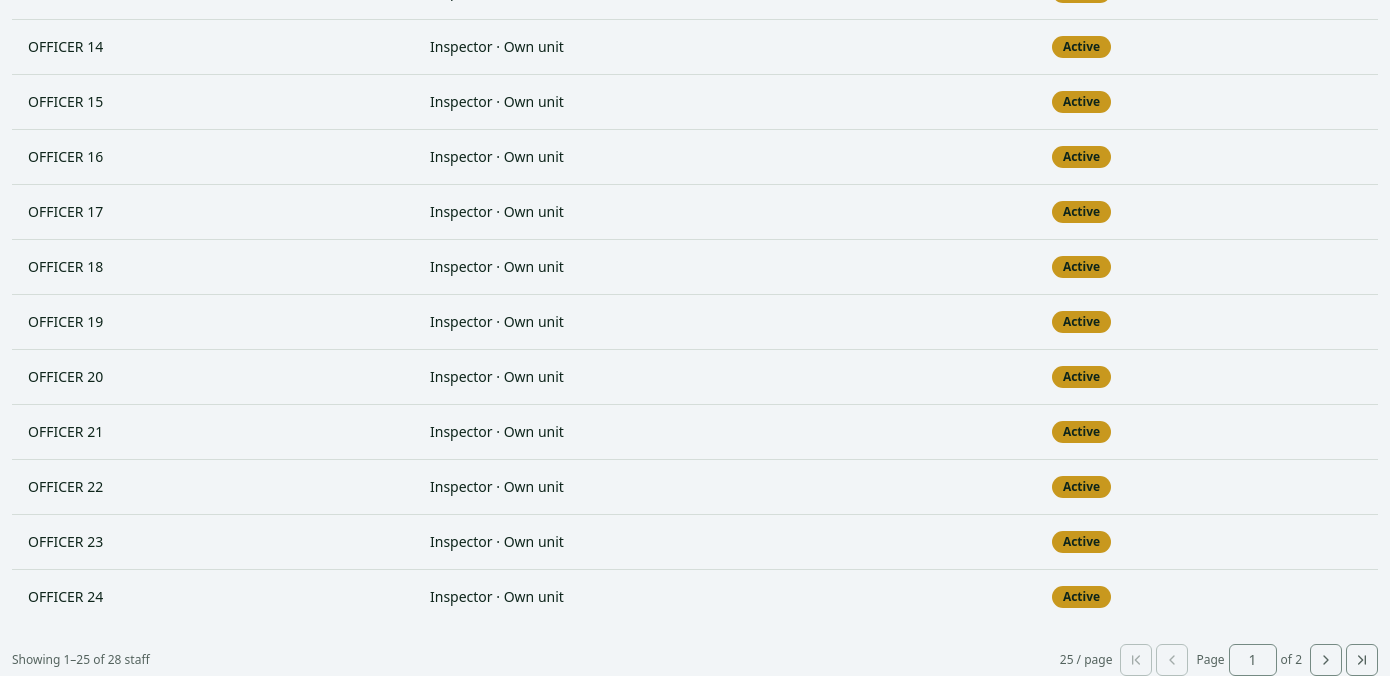
command workforce access and records › keeps 25 records per page and reads back the next page
(page scrolled)
Check: the text "OFFICER 25" is not shown
Click the button named "Next page" at (1326, 660), box [1310,644,1342,675]
(page scrolled)
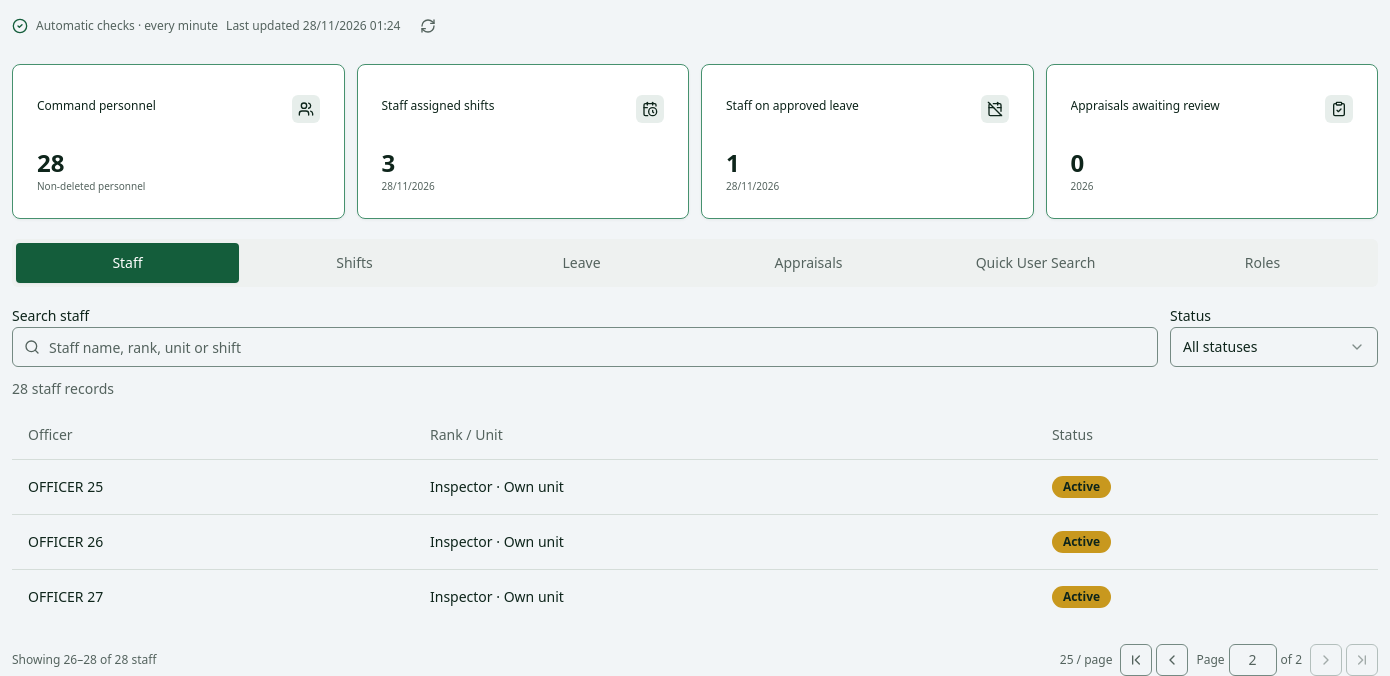
Check: the text "OFFICER 25" is shown 2 times
Check: the text "OFFICER 24" is gone
